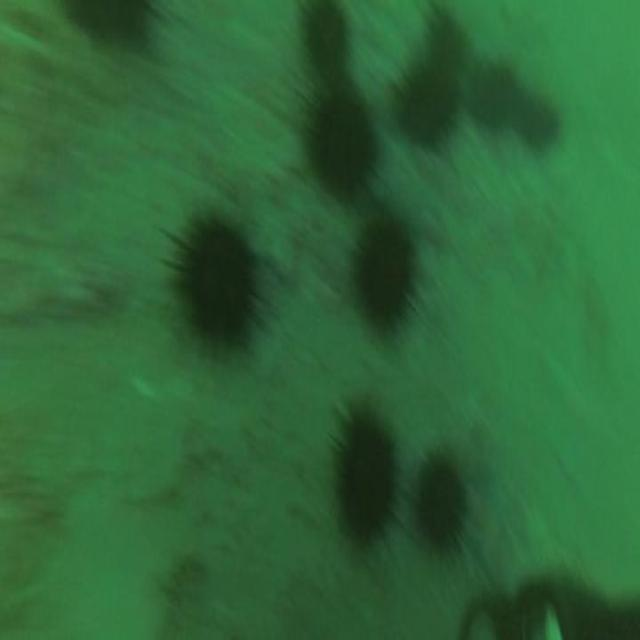echinus: (182, 218, 256, 346), (338, 414, 397, 545), (310, 92, 374, 199), (356, 218, 414, 332), (396, 68, 454, 142), (418, 458, 466, 547), (301, 0, 354, 73), (476, 57, 514, 131), (523, 93, 560, 150), (429, 19, 465, 74)
